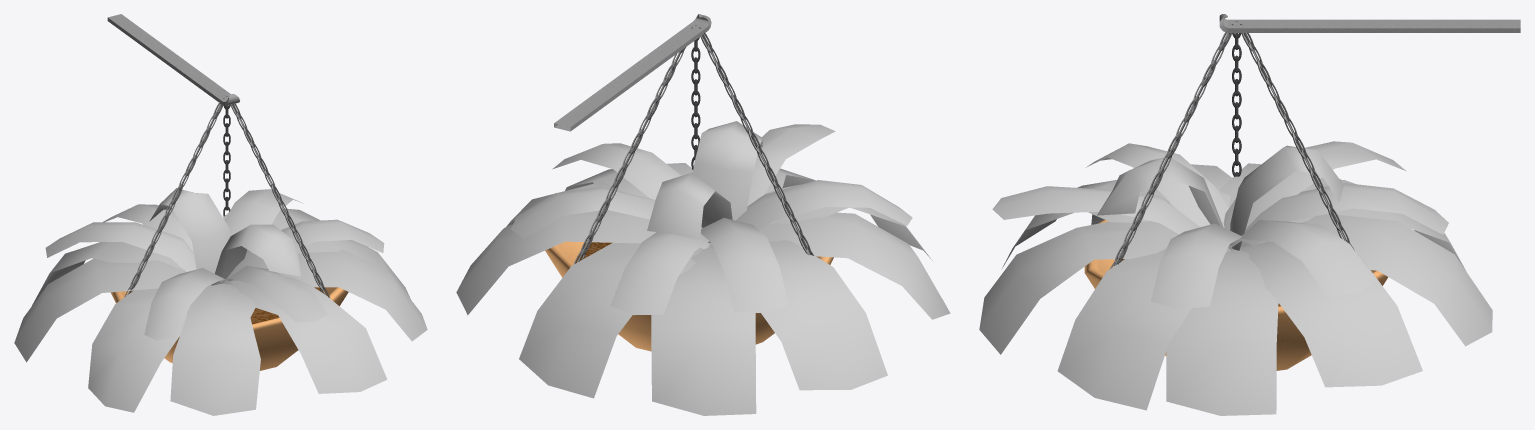
Rendered from Hanging Pot.fbx.
3 renders of one model, left to right at view 1: azimuth 30°, elevation 25°; view 2: azimuth 150°, elevation 25°; view 3: azimuth 270°, elevation 25°, orthographic. The views are drawn at different scales.
Parts seen in each view (by area): view 1: Leaves, Hanging_Pot; view 2: Leaves, Hanging_Pot; view 3: Leaves, Hanging_Pot.
Part boxes in pixels (bbox=[...]): Leaves: bbox=[14, 188, 427, 415]; Hanging_Pot: bbox=[107, 14, 348, 370]; Leaves: bbox=[456, 121, 950, 415]; Hanging_Pot: bbox=[545, 14, 833, 351]; Leaves: bbox=[979, 141, 1492, 415]; Hanging_Pot: bbox=[1084, 14, 1520, 370].
Bounding box in the file's own units: 2.55 × 1.88 × 2.68.
